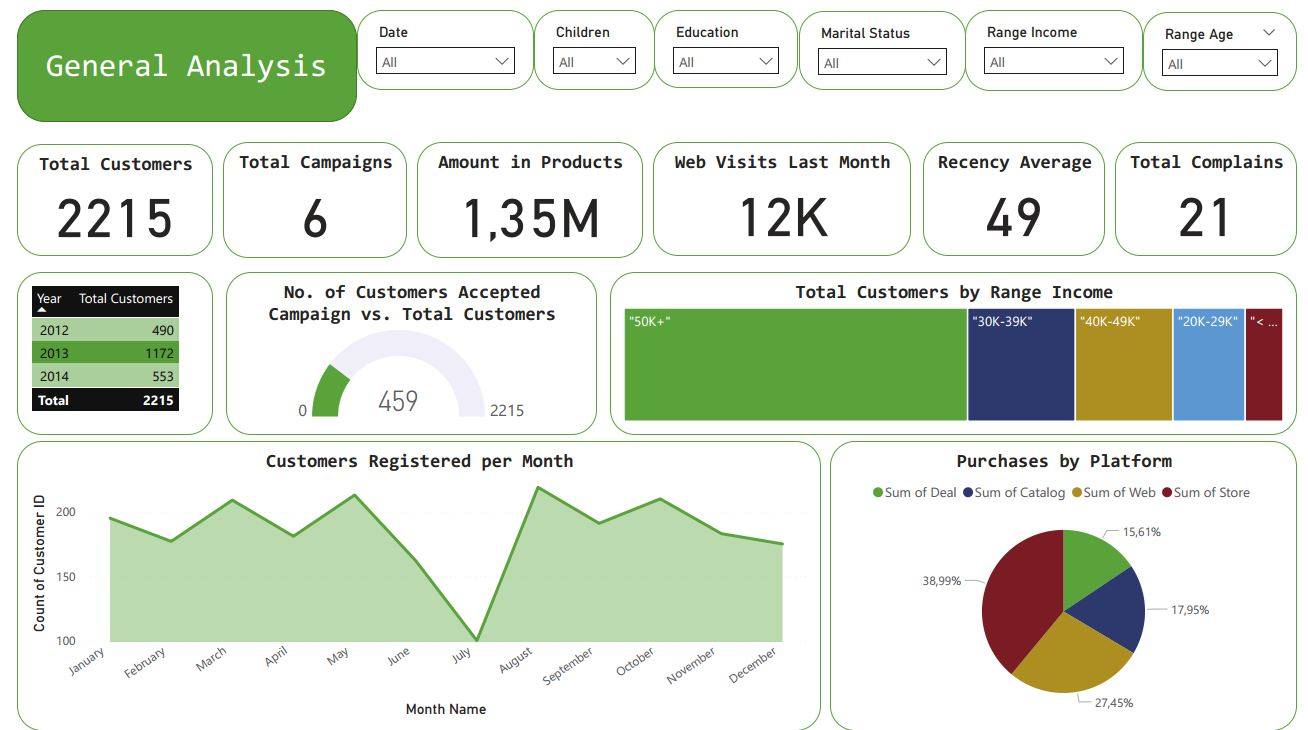

What the dashboard file says about the page in this screenshot:
{"tool":"powerbi","page":{"name":"General","canvas":[1280,720],"ordinal":0},"visuals":[{"type":"slicer","fields":{"Values":["Dim Calendar.Year Hierarchy.Year","Dim Calendar.Year Hierarchy.Quarter","Dim Calendar.Year Hierarchy.Month Name"]},"box":[339.5,0,176.9,79.7],"z":0,"group":"g2"},{"type":"card","title":"Total Customers","fields":{"Values":["New Measures.Total Customers"]},"box":[0,134,196,112],"z":0,"group":"g1"},{"type":"areaChart","title":"Customers Registered per Month","fields":{"Category":["Dim Calendar.Year Hierarchy.Year","Dim Calendar.Year Hierarchy.Month Name","Dim Calendar.Year Hierarchy.Weekday Name"],"Y":["CountNonNull(Fact Marketing.Customer ID)"]},"box":[0,431.1,803.8,289.9],"z":0},{"type":"slicer","fields":{"Values":["Dim Customer.Range Age"]},"box":[1125.3,2,154.6,79.4],"z":1000,"group":"g2"},{"type":"group","id":"g1","title":"Group 1","box":[0,132,1280,116],"z":1000},{"type":"card","title":"Total Campaigns","fields":{"Values":["New Measures.Total Campaign"]},"box":[206,132,184,116],"z":1000,"group":"g1"},{"type":"slicer","fields":{"Values":["Dim Customer.Range Income"]},"box":[947.4,0,177.9,81.4],"z":2000,"group":"g2"},{"type":"card","title":"Amount in Products","fields":{"Values":["New Measures.Total Amoun"]},"box":[400,132,226,116],"z":2000,"group":"g1"},{"type":"gauge","title":"No. of Customers Accepted Campaign vs. Total Customers","fields":{"MaxValue":["New Measures.Total Customers"],"Y":["Sum(Fact Marketing.Customer Accepted)"]},"box":[209.1,262.4,371.2,162.1],"z":2000},{"type":"shape","box":[0,0,340.1,112.3],"z":3000},{"type":"slicer","fields":{"Values":["Dim Customer.Children At Home"]},"box":[516.4,0,121.2,79.7],"z":3000,"group":"g2"},{"type":"card","title":"Total Complains","fields":{"Values":["Sum(Fact Marketing.Complain)"]},"box":[1098,132,182,114],"z":3000,"group":"g1"},{"type":"slicer","fields":{"Values":["Dim Education.Education"]},"box":[636.1,0,144.2,78.1],"z":4000,"group":"g2"},{"type":"card","title":"Recency Average","fields":{"Values":["Avg(Fact Marketing.Recency)"]},"box":[906,132,182,114],"z":4000,"group":"g1"},{"type":"tableEx","fields":{"Values":["Dim Calendar.Year Hierarchy.Year","New Measures.Total Customers"]},"box":[0,262.4,196.3,162.1],"z":4000},{"type":"slicer","fields":{"Values":["Dim Marital.Marital Status"]},"box":[781.8,1.6,167.1,79.7],"z":5000,"group":"g2"},{"type":"treemap","fields":{"Values":["New Measures.Total Customers"],"Group":["Dim Customer.Range Income Hierarchy.Range Income","Dim Customer.Range Income Hierarchy.Range Age"]},"box":[593.1,262.4,686.9,162.1],"z":5000},{"type":"card","title":"Web Visits Last Month","fields":{"Values":["Sum(Fact Marketing.Web Visit Month)"]},"box":[636,132,258,114],"z":6000,"group":"g1"},{"type":"pieChart","title":"Purchases by Platform","fields":{"Y":["Sum(Fact Marketing.Deal)","Sum(Fact Marketing.Catalog)","Sum(Fact Marketing.Web)","Sum(Fact Marketing.Store)"]},"box":[813.2,431.1,466.8,289.9],"z":6000},{"type":"group","id":"g2","title":"Group 1","box":[339.5,0,940.5,81.4],"z":7000}]}

Visuals, with their boxes in screenshot pixels (x1, y1, x2, y2), scaled from the page's 1280x720 canvas onto the 1308x730 screenshot:
slicer - Dim Calendar.Year Hierarchy.Year x Dim Calendar.Year Hierarchy.Quarter: bbox=[347, 0, 528, 81]
"Total Customers" card: bbox=[0, 136, 200, 249]
"Customers Registered per Month" areaChart: bbox=[0, 437, 821, 729]
slicer - Dim Customer.Range Age: bbox=[1150, 2, 1307, 83]
"Group 1" group: bbox=[0, 134, 1307, 251]
"Total Campaigns" card: bbox=[211, 134, 399, 251]
slicer - Dim Customer.Range Income: bbox=[968, 0, 1150, 83]
"Amount in Products" card: bbox=[409, 134, 640, 251]
"No. of Customers Accepted Campaign vs. Total Customers" gauge: bbox=[214, 266, 593, 430]
shape: bbox=[0, 0, 348, 114]
slicer - Dim Customer.Children At Home: bbox=[528, 0, 652, 81]
"Total Complains" card: bbox=[1122, 134, 1307, 249]
slicer - Dim Education.Education: bbox=[650, 0, 797, 79]
"Recency Average" card: bbox=[926, 134, 1112, 249]
tableEx - Dim Calendar.Year Hierarchy.Year x New Measures.Total Customers: bbox=[0, 266, 201, 430]
slicer - Dim Marital.Marital Status: bbox=[799, 2, 970, 82]
treemap - New Measures.Total Customers x Dim Customer.Range Income Hierarchy.Range Income: bbox=[606, 266, 1307, 430]
"Web Visits Last Month" card: bbox=[650, 134, 914, 249]
"Purchases by Platform" pieChart: bbox=[831, 437, 1307, 729]
"Group 1" group: bbox=[347, 0, 1307, 83]
